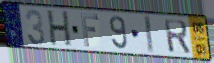3: (25, 8, 46, 46)
9: (108, 15, 129, 51)
F: (80, 12, 101, 49)
H: (47, 9, 73, 48)
I: (143, 15, 156, 56)
R: (162, 19, 192, 56)
